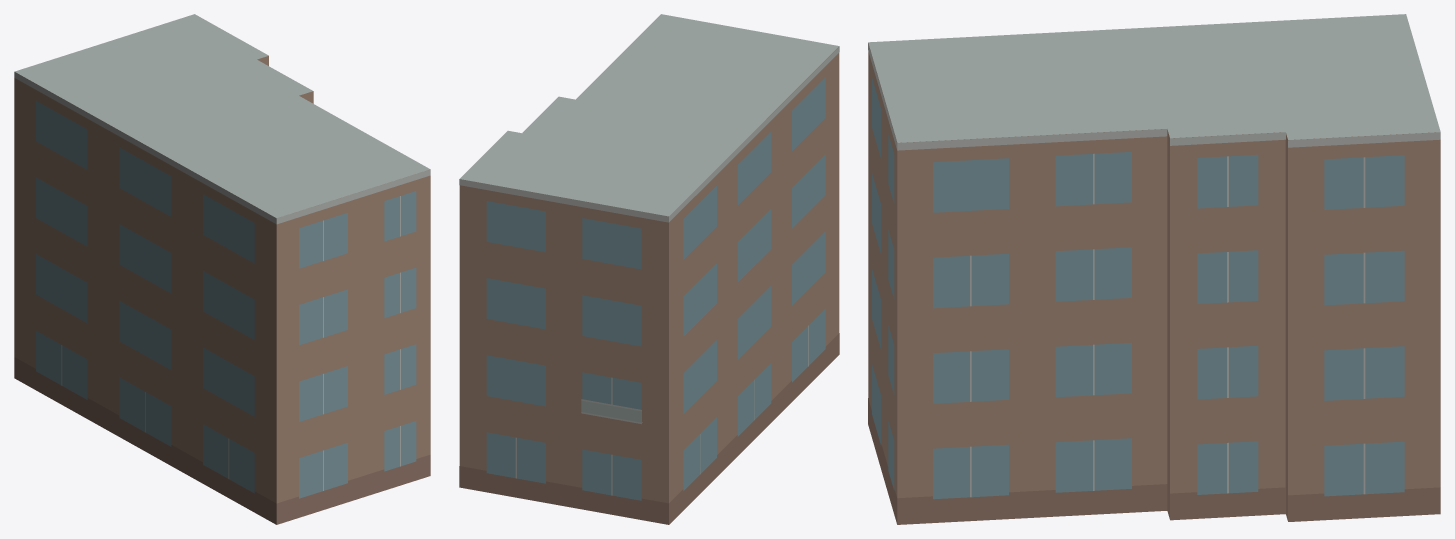
Rendered from residential-4e98d306-9a28-4e79-b63f-6cef86778036.glb.
The picture shows the model from 3 angles, left to right: view 1: azimuth 30°, elevation 25°; view 2: azimuth 150°, elevation 25°; view 3: azimuth 270°, elevation 25°; orthographic projection. The views are drawn at different scales.
Parts seen in each view (by area): view 1: residential-4e98d306-9a28-4e79-b63f-6cef86778036.tmp; view 2: residential-4e98d306-9a28-4e79-b63f-6cef86778036.tmp; view 3: residential-4e98d306-9a28-4e79-b63f-6cef86778036.tmp.
Part boxes in pixels (box(x1,y1,x2,y2)): residential-4e98d306-9a28-4e79-b63f-6cef86778036.tmp: box(14, 14, 430, 524); residential-4e98d306-9a28-4e79-b63f-6cef86778036.tmp: box(459, 14, 839, 524); residential-4e98d306-9a28-4e79-b63f-6cef86778036.tmp: box(868, 14, 1440, 524).
Bounding box in the file's own units: 8.84 × 12.2 × 16.59.
